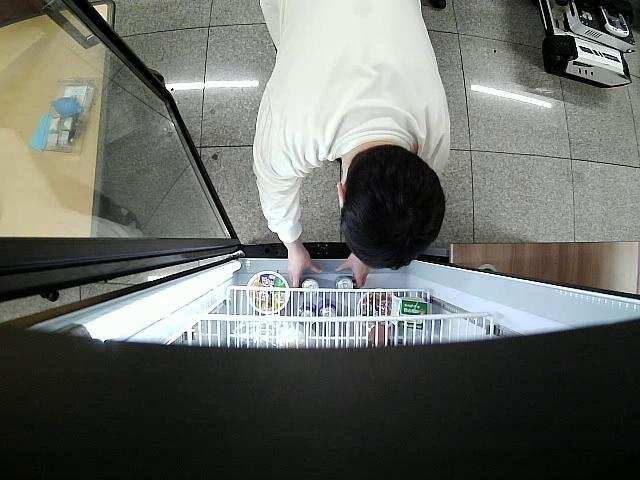00_hand: (287, 250, 326, 296), (336, 256, 369, 290)
